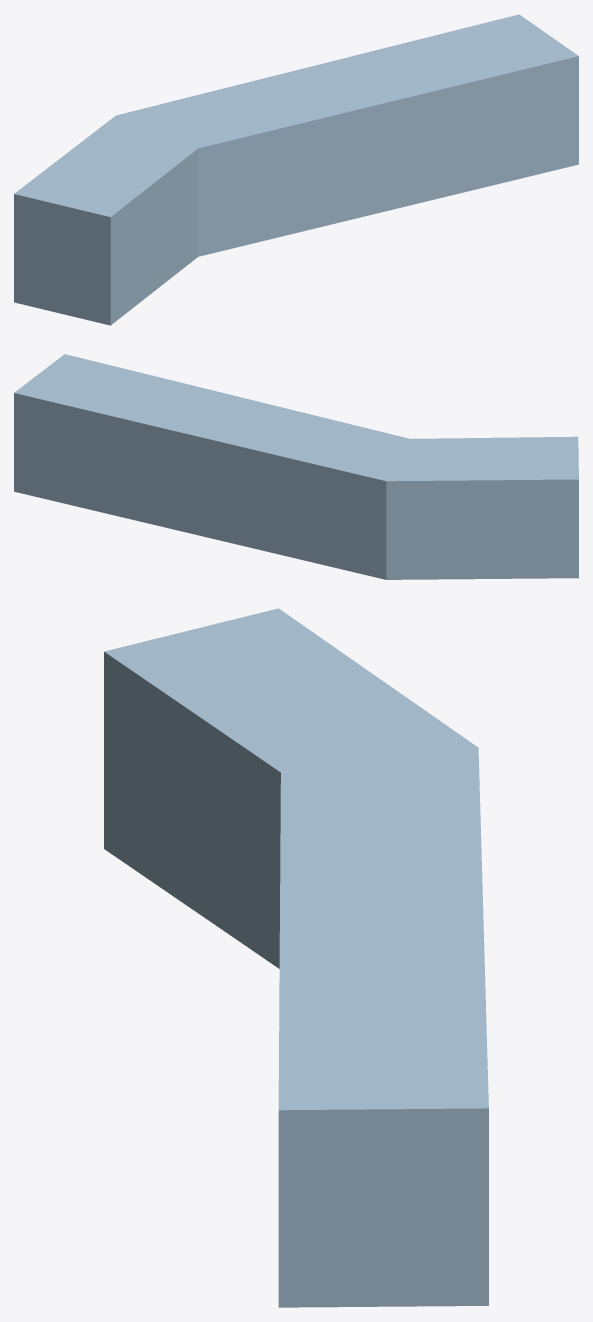
Rendered from osm_way_1173057050.glb.
3 views of the same model, one above another, from view 1: azimuth 30°, elevation 25°; view 2: azimuth 150°, elevation 25°; view 3: azimuth 270°, elevation 25° (orthographic). The views are drawn at different scales.
Parts seen in each view (by area): view 1: osm_way_1173057050; view 2: osm_way_1173057050; view 3: osm_way_1173057050.
Part boxes in pixels (left/top/right/bottom): osm_way_1173057050: left=14, top=14, right=578, bottom=325; osm_way_1173057050: left=14, top=354, right=578, bottom=579; osm_way_1173057050: left=104, top=608, right=488, bottom=1307.
Bounding box in the file's own units: 121 × 22.2 × 39.22.
